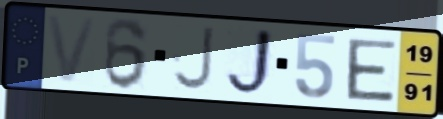5: (293, 30, 337, 101)
6: (103, 15, 150, 93)
E: (345, 37, 399, 105)
J: (223, 25, 276, 99), (171, 24, 216, 93)
V: (44, 13, 101, 85)
